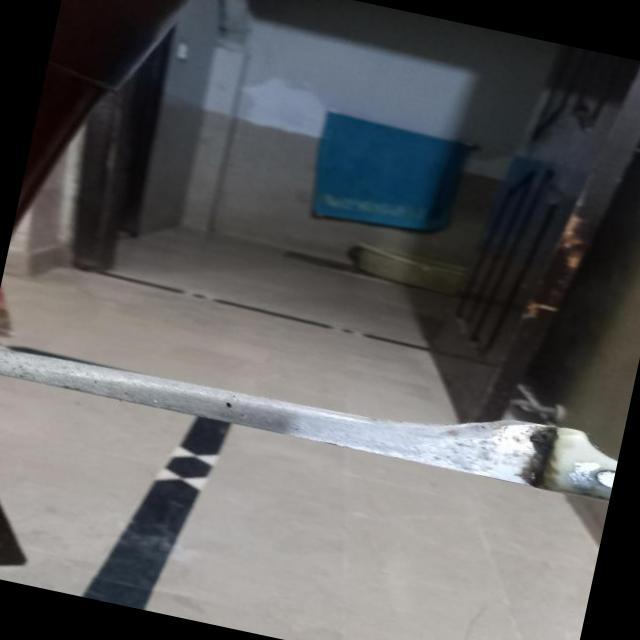Knife: (0, 303, 621, 541)
